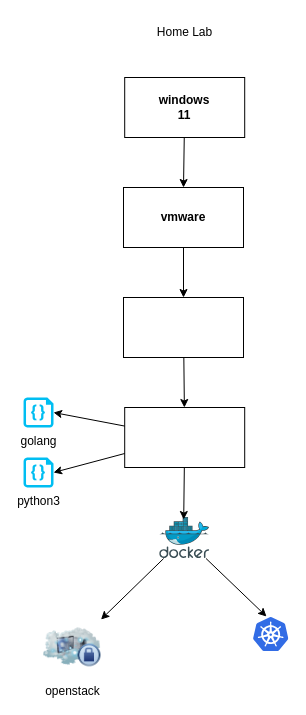
The diagram is 306 pixels wide and 715 high, and some of its shapes have lost their labels. Each missing label, with the centre of its shape:
"debian 12" goes at pixel 184 437.
"kind" goes at pixel 270 634.
"vagrant" goes at pixel 183 327.
